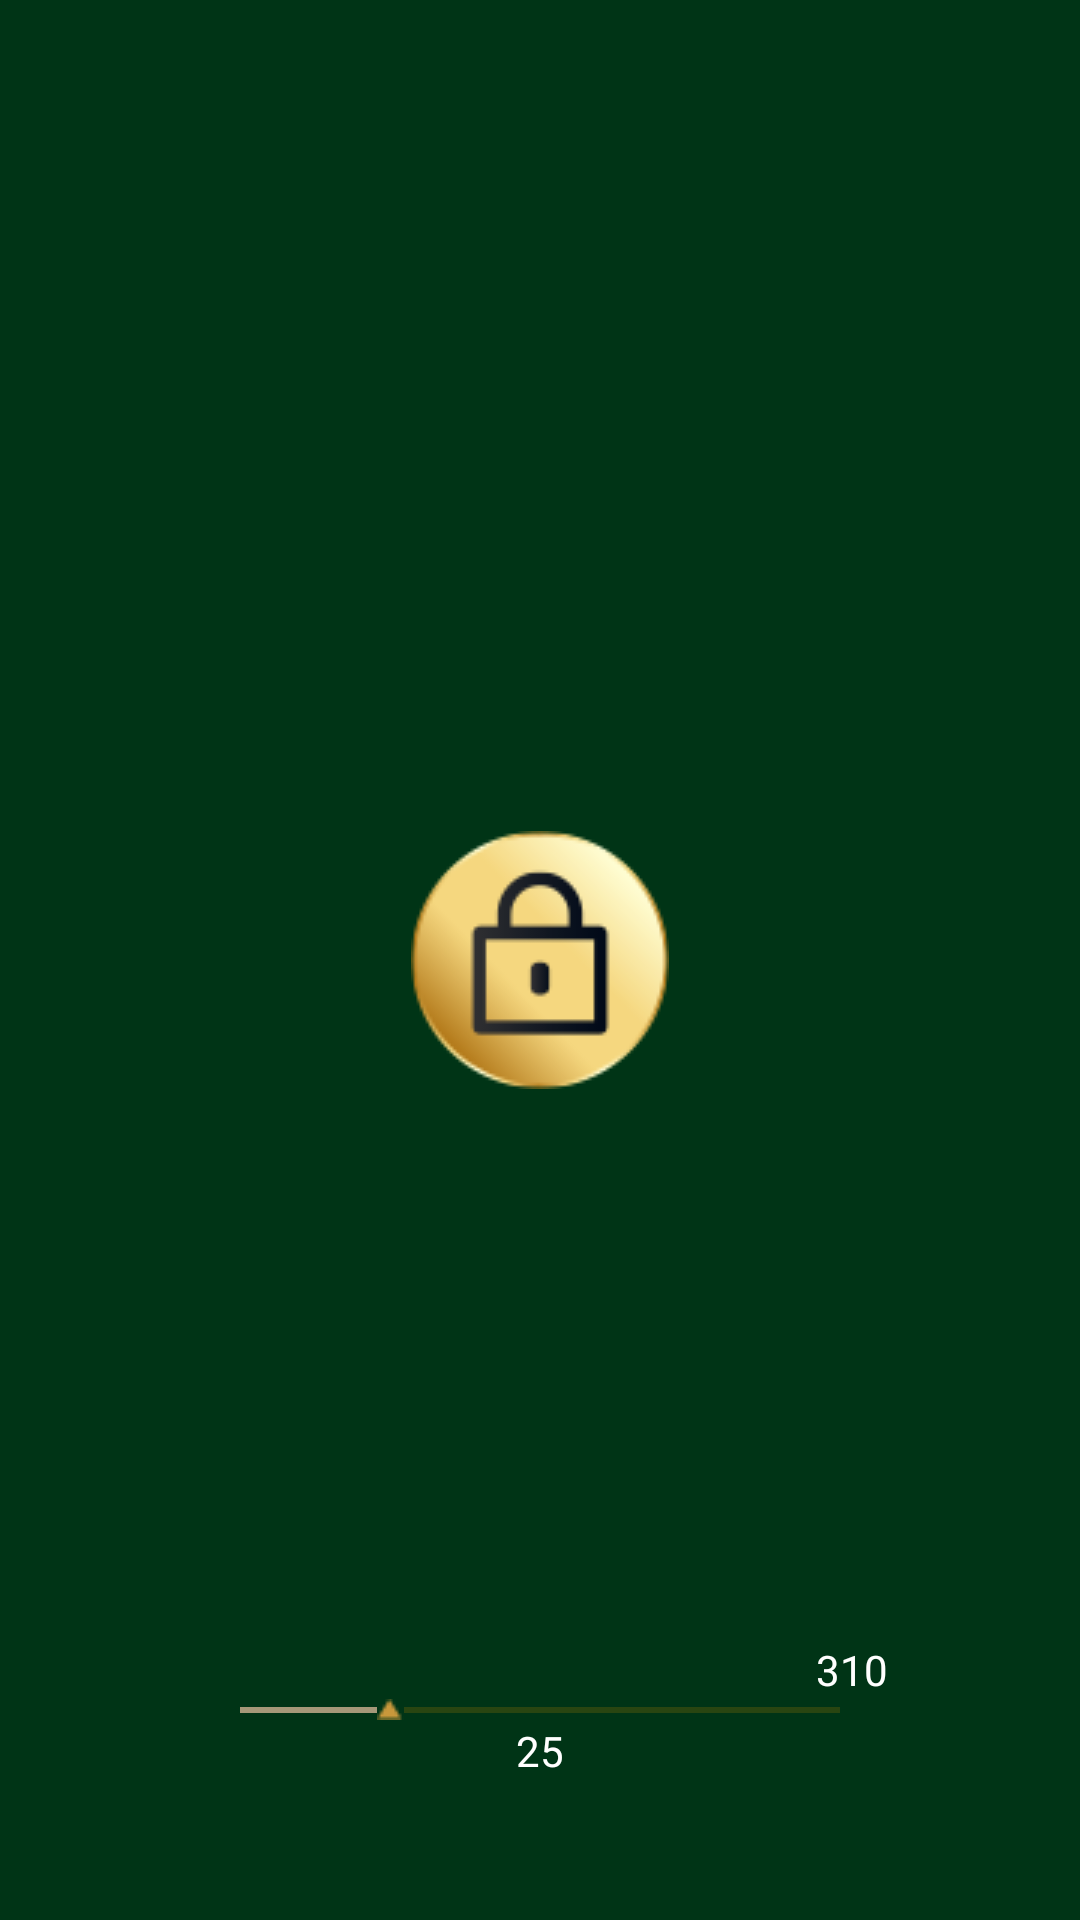

Icons on this 1080w x 1920h Android screen, each with its box as bbox=[x1, y1, x2, y2]:
lock: bbox=[411, 831, 669, 1089]
